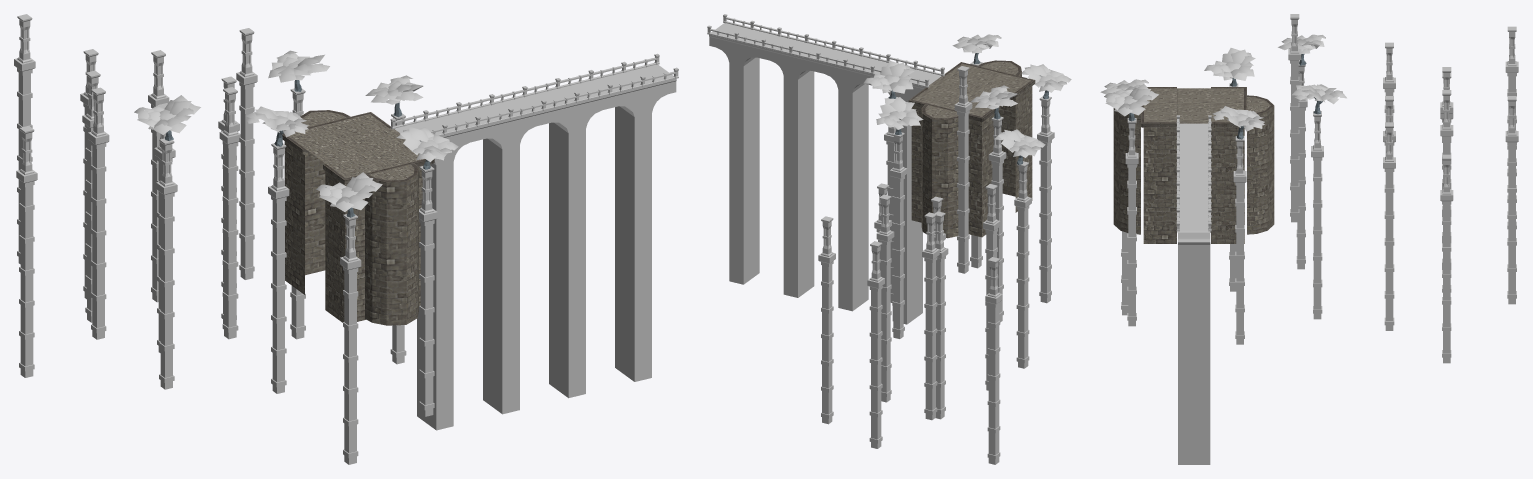
The model's file is Area_004.FBX.
3 views of the same model, side by side, from view 1: azimuth 30°, elevation 25°; view 2: azimuth 150°, elevation 25°; view 3: azimuth 270°, elevation 25° (orthographic). The views are drawn at different scales.
Parts seen in each view (by area): view 1: Area_004; view 2: Area_004; view 3: Area_004.
Part boxes in pixels (<box>): Area_004: <box>14,14,678,464</box>; Area_004: <box>707,14,1071,464</box>; Area_004: <box>1100,14,1518,464</box>.
Bounding box in the file's own units: 7508 × 5497 × 6599.
